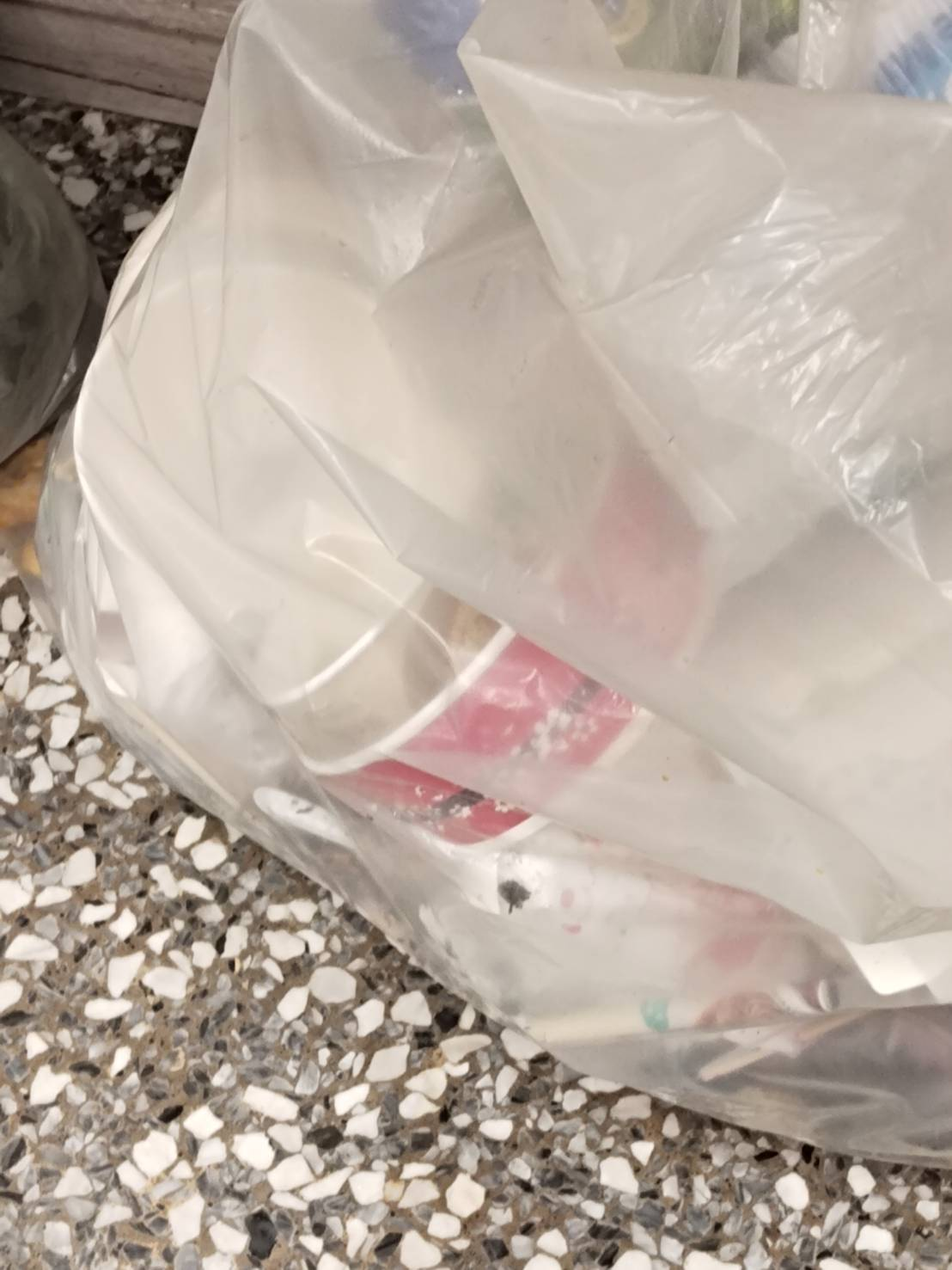paper: (229, 295, 792, 914)
